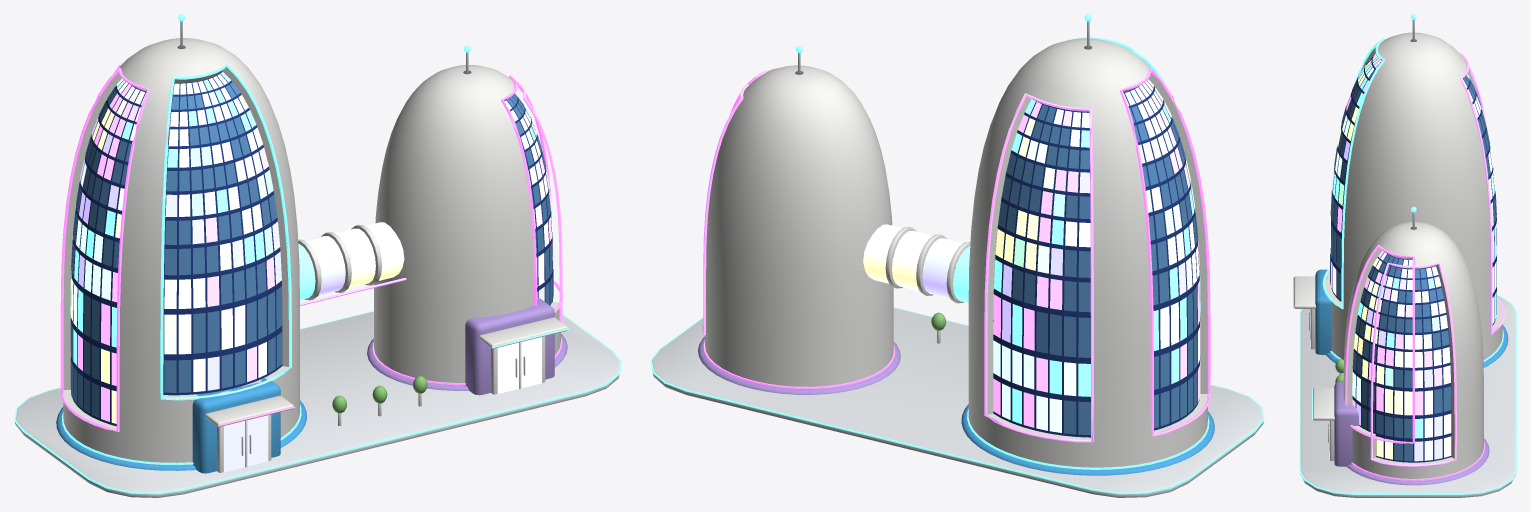
File: capsula_ovo_dupla.glb
3 renders of one model, left to right at view 1: azimuth 30°, elevation 25°; view 2: azimuth 150°, elevation 25°; view 3: azimuth 270°, elevation 25°, orthographic. The views are drawn at different scales.
Parts seen in each view (by area): view 1: capsula_ovo_dupla; view 2: capsula_ovo_dupla; view 3: capsula_ovo_dupla.
Part boxes in pixels (box(x1,y1,x2,y2)): capsula_ovo_dupla: box(14, 14, 621, 497); capsula_ovo_dupla: box(650, 14, 1264, 497); capsula_ovo_dupla: box(1293, 14, 1516, 497).
Bounding box in the file's own units: 26.08 × 19.6 × 12.02.
12 materials, 1 textured.
